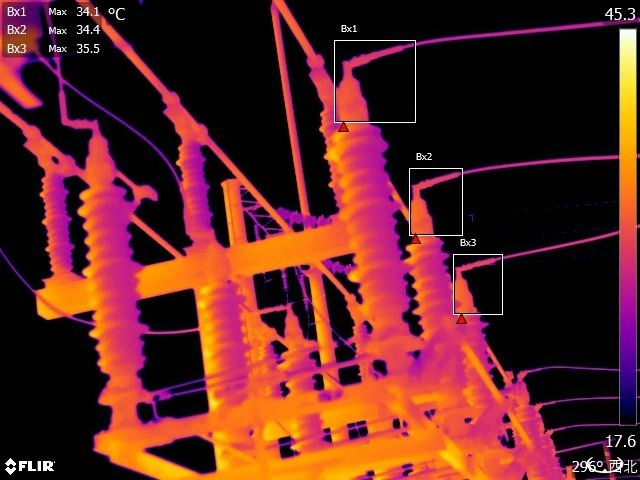insulator: (270, 205, 335, 229), (324, 257, 361, 281)
post insulator: (329, 120, 414, 319), (76, 182, 153, 378), (196, 277, 261, 403), (404, 231, 460, 339), (406, 233, 461, 328), (32, 165, 79, 276), (280, 345, 328, 444), (176, 136, 218, 239), (457, 300, 491, 409), (512, 401, 546, 463)
